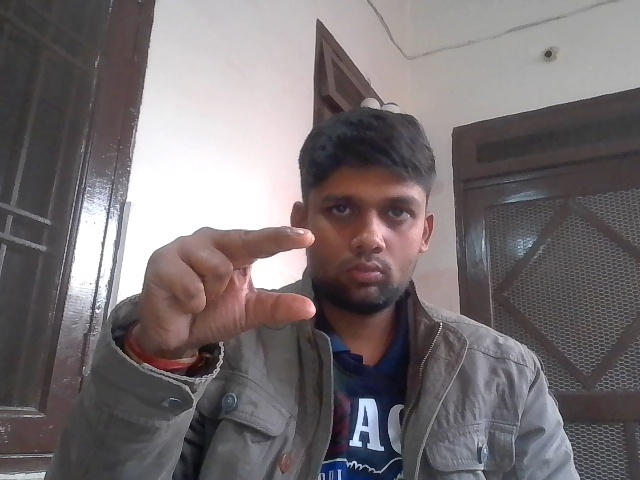No: (124, 216, 328, 366)
